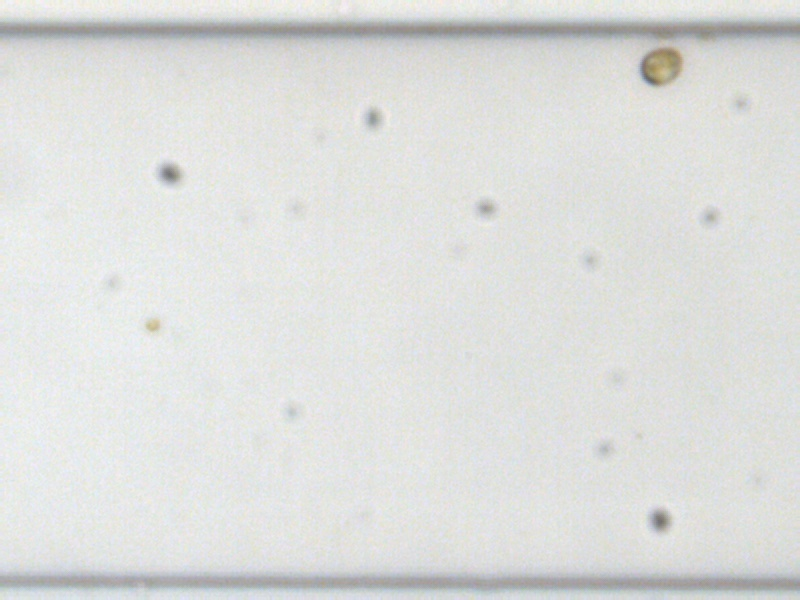Chlorella: (142, 314, 161, 334)
Effrenium: (637, 44, 683, 87)
